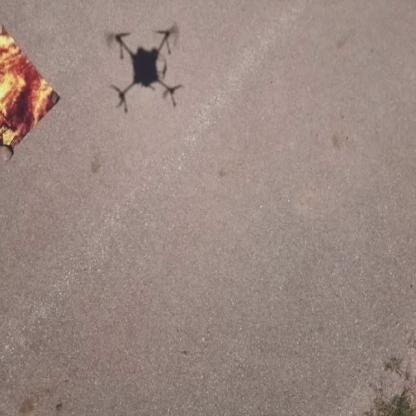fire-poster: (0, 22, 61, 163)
